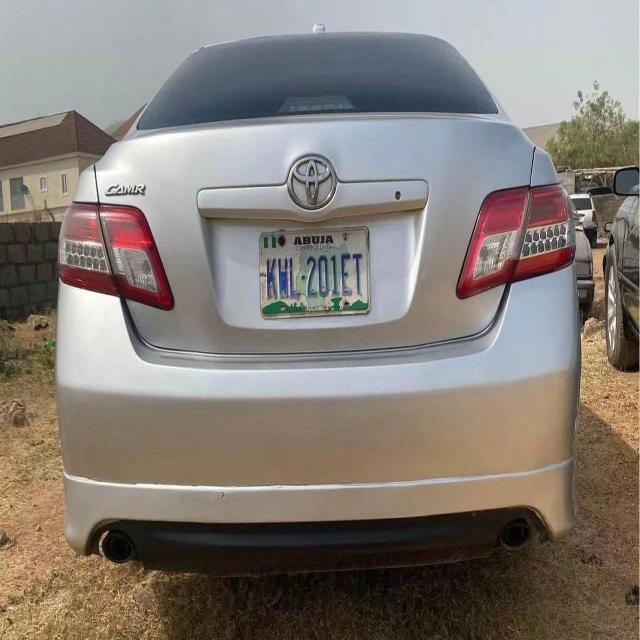Nigerian License Plate - vdataset benjamin-daria: (256, 222, 372, 314)
